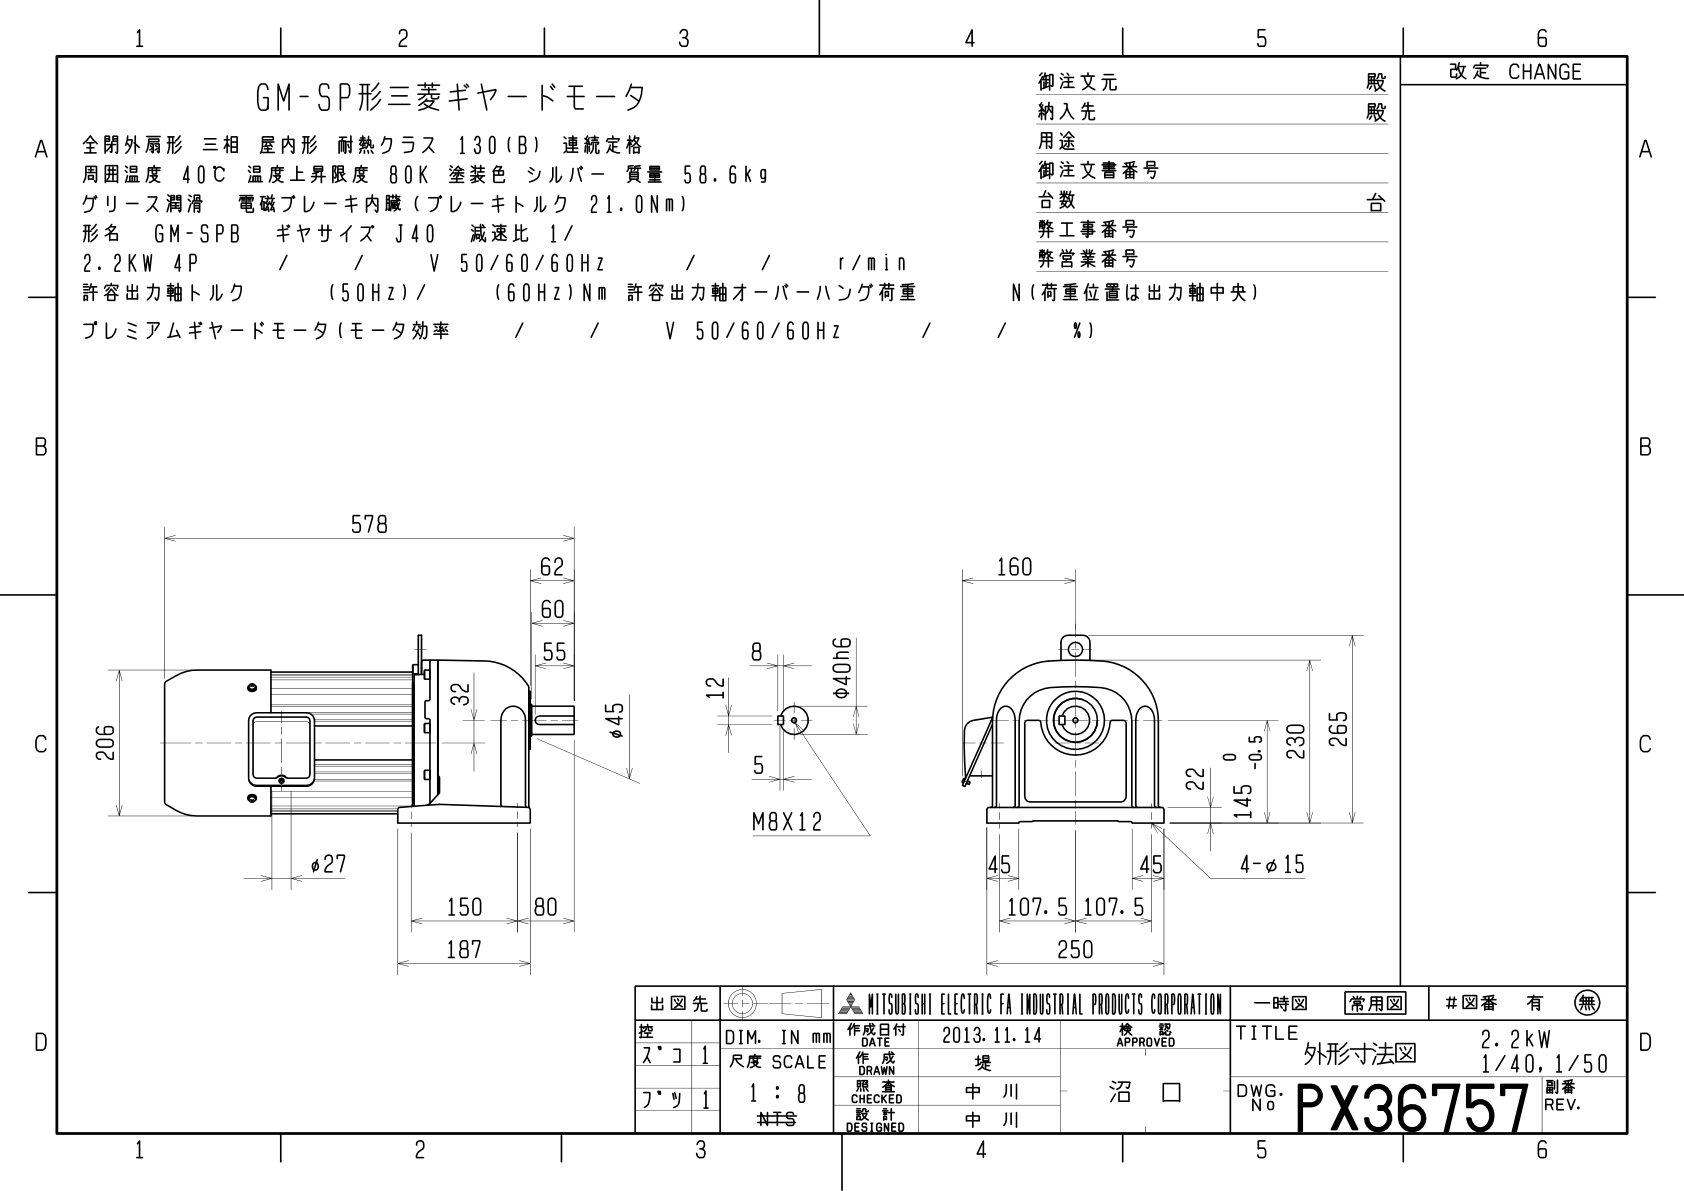GM_SP_屋内_三相_脚: (82, 479, 1385, 980)
